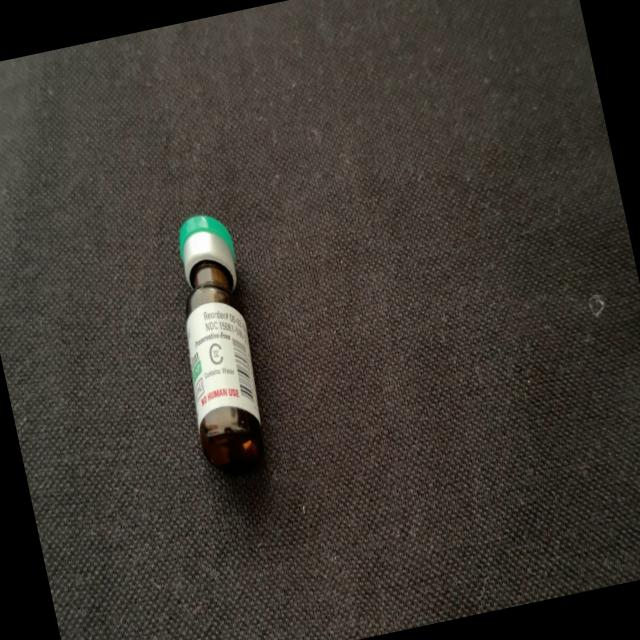midazolm: (156, 214, 278, 474)
